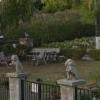Statue: (57, 53, 86, 86)
